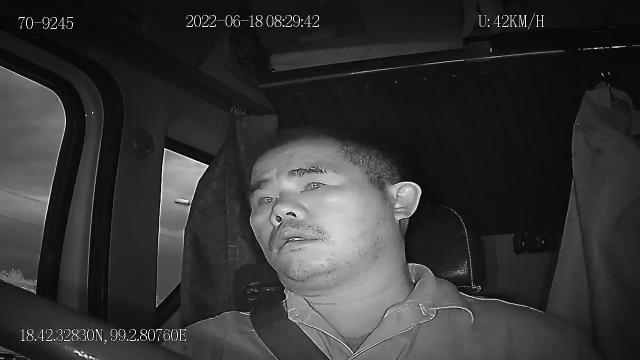SafeDriving: (289, 159, 338, 196), (294, 170, 337, 196), (250, 185, 282, 211)
Seatbelt: (252, 296, 334, 360)
